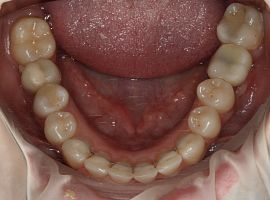LL1BC_healthy: (190, 105, 218, 137)
LL1M_decay: (207, 44, 252, 83)
LL2BC_healthy: (197, 78, 235, 111)
LL2M_decay: (220, 4, 262, 46)
LLCI_decay: (135, 162, 156, 182)
LLC_healthy: (176, 132, 206, 162)
LLLI_healthy: (155, 152, 182, 175)
LR1BC_healthy: (44, 112, 78, 142)
LR1M_healthy: (24, 62, 60, 86)
LR2BC_healthy: (35, 83, 67, 113)
LR2M_healthy: (13, 20, 54, 60)
LRCI_decay: (111, 159, 133, 182)
LRC_healthy: (63, 137, 88, 164)
LRLI_decay: (88, 151, 110, 174)
